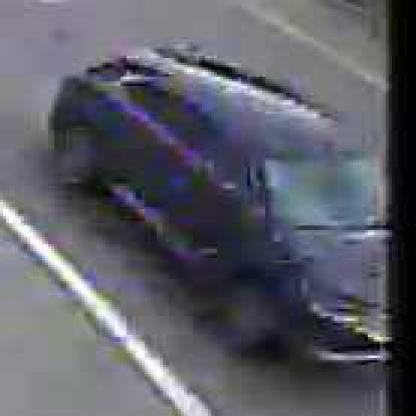car: (58, 50, 387, 373)
